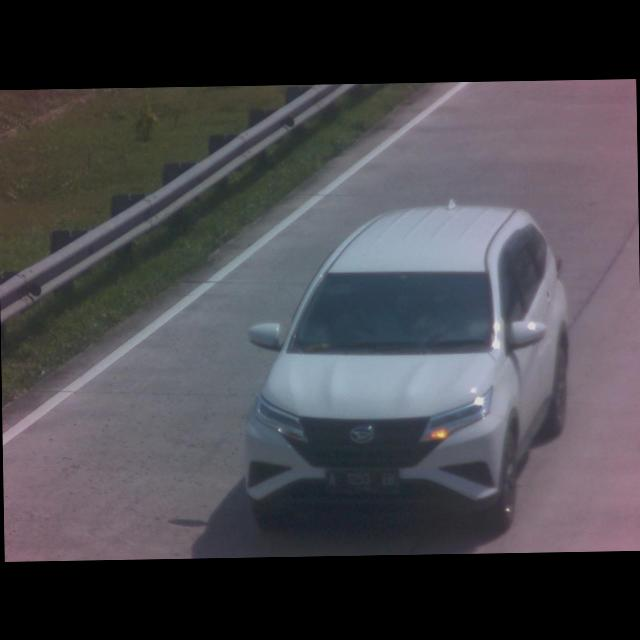plate: (322, 466, 402, 497)
